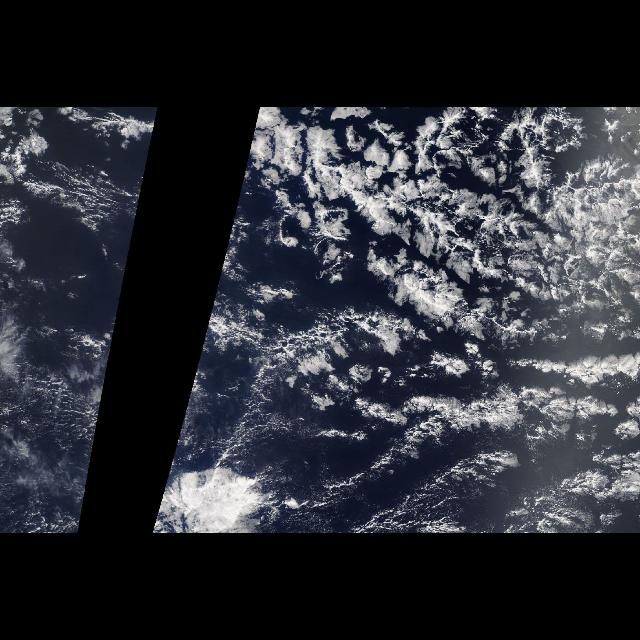Fish: (245, 108, 640, 350), (350, 377, 626, 455)
